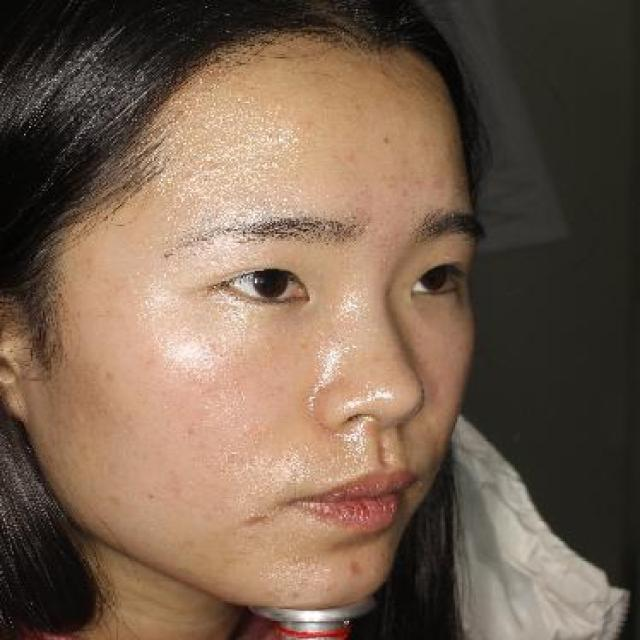dark spot: (233, 509, 277, 529)
whiteheads: (258, 130, 279, 144), (204, 160, 222, 174), (202, 341, 221, 354), (217, 194, 233, 209), (376, 66, 392, 80)
